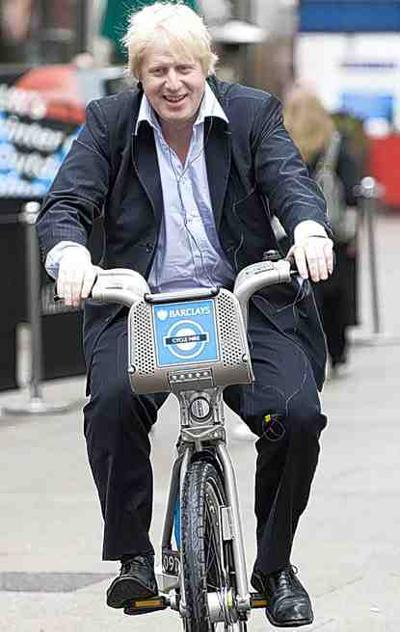person: (37, 5, 334, 627)
